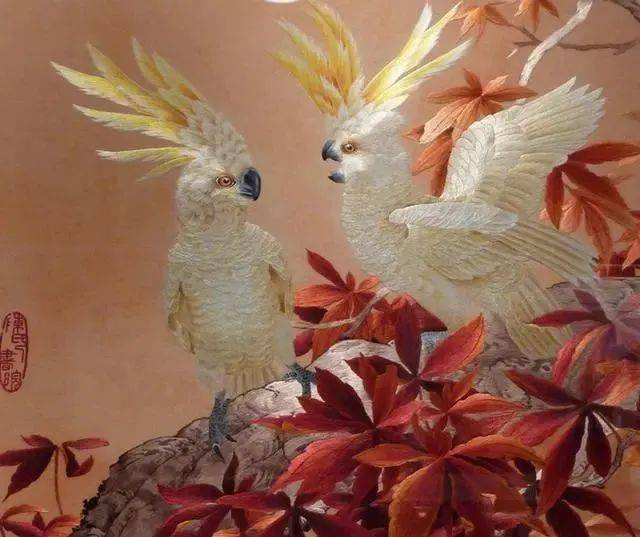bird: (264, 1, 629, 360), (45, 35, 324, 459)
